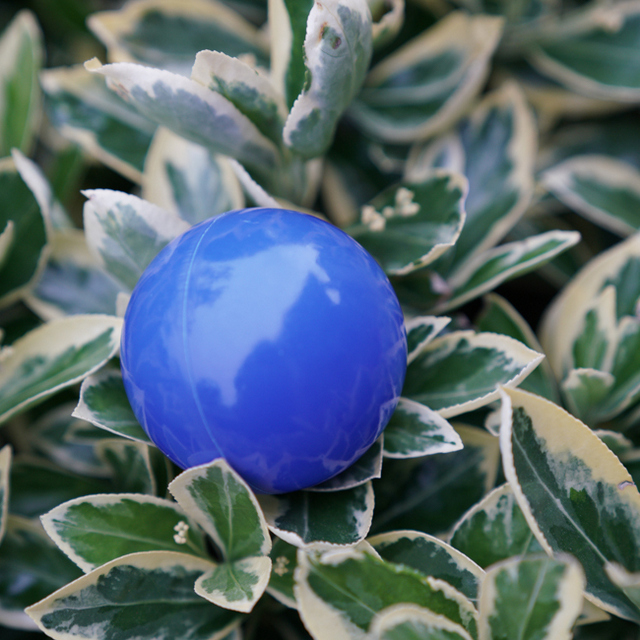Ball: (117, 207, 403, 487)
